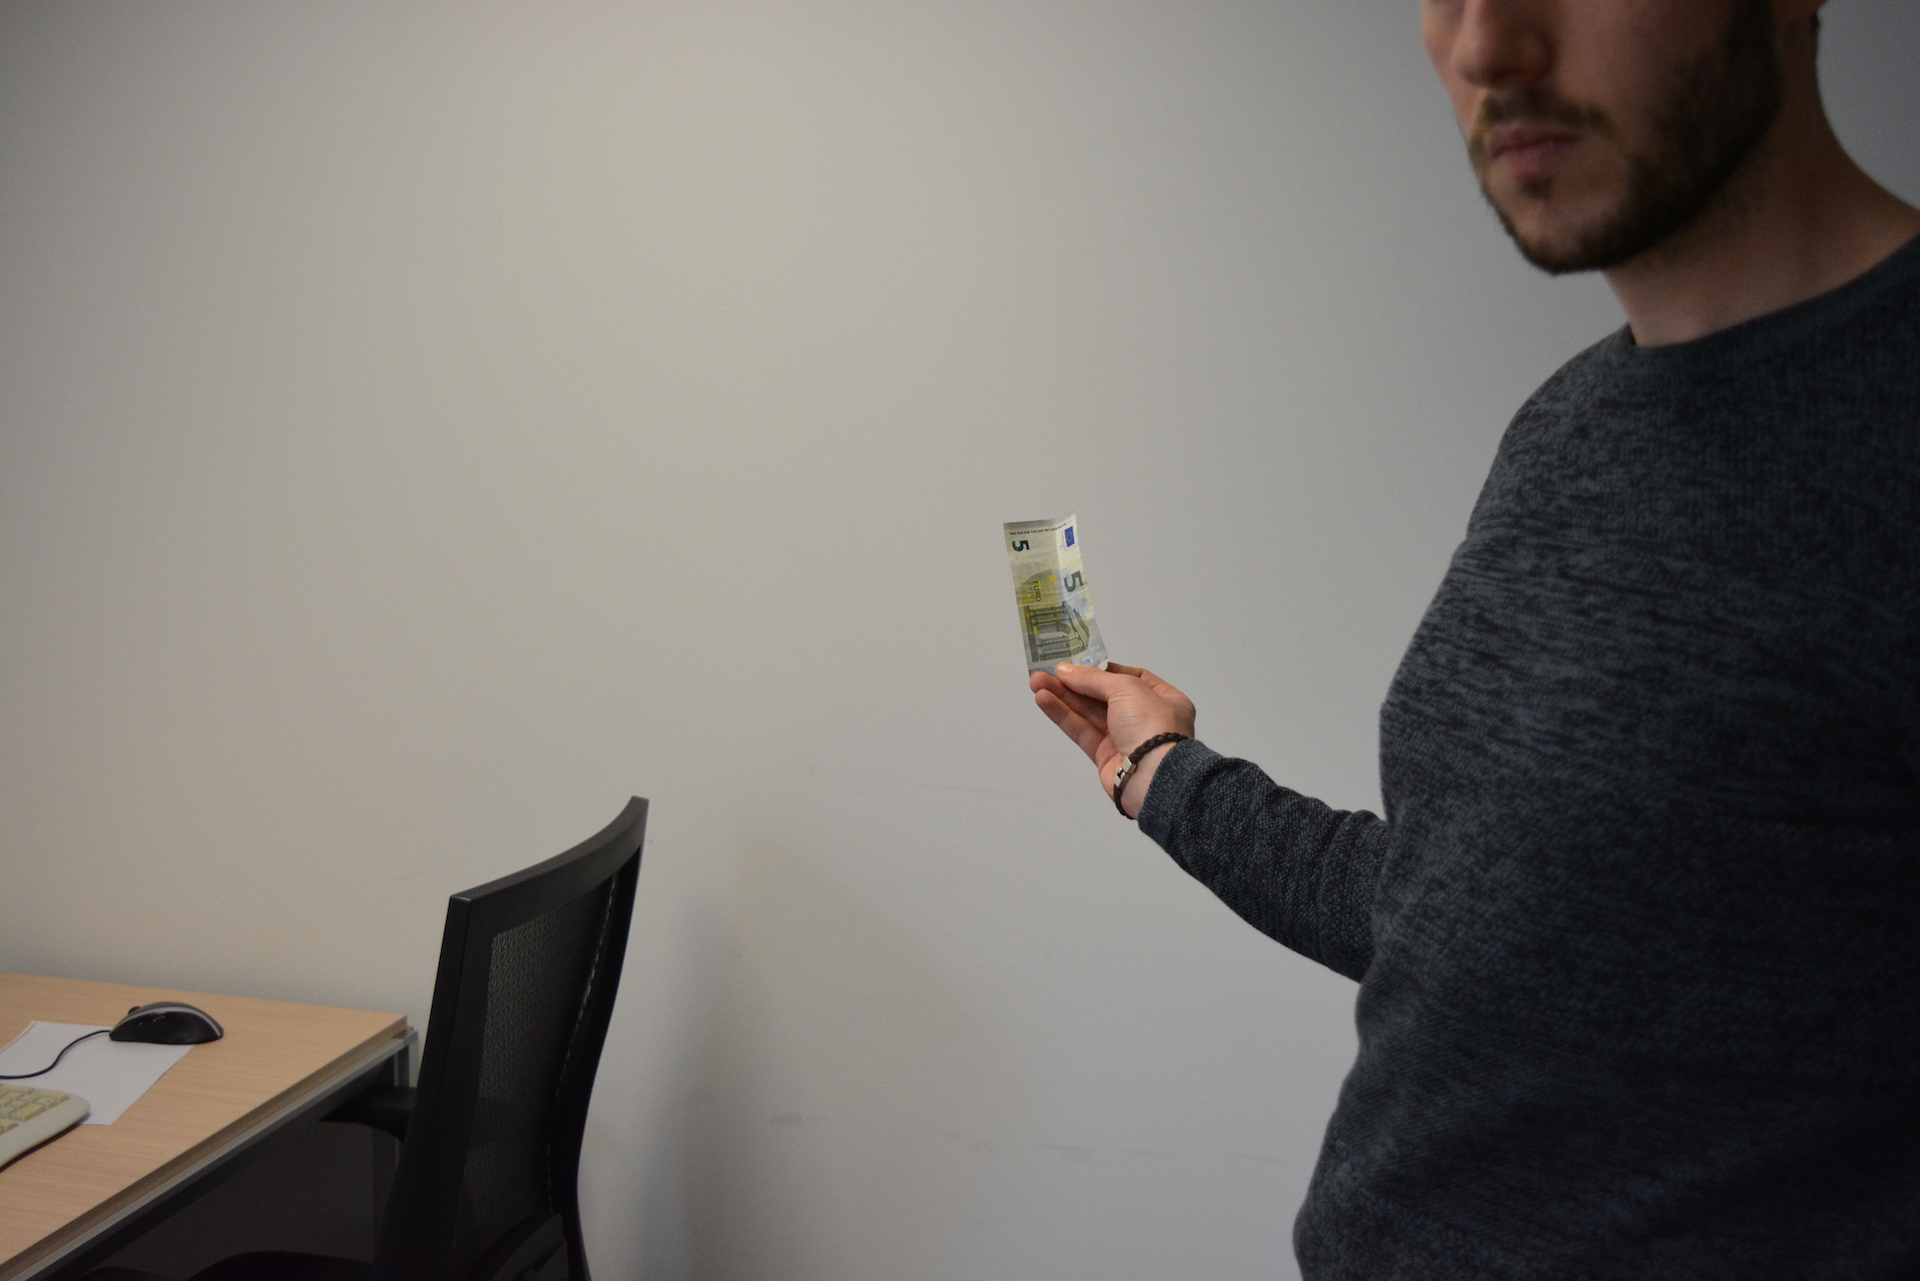billete: (1002, 509, 1111, 691)
